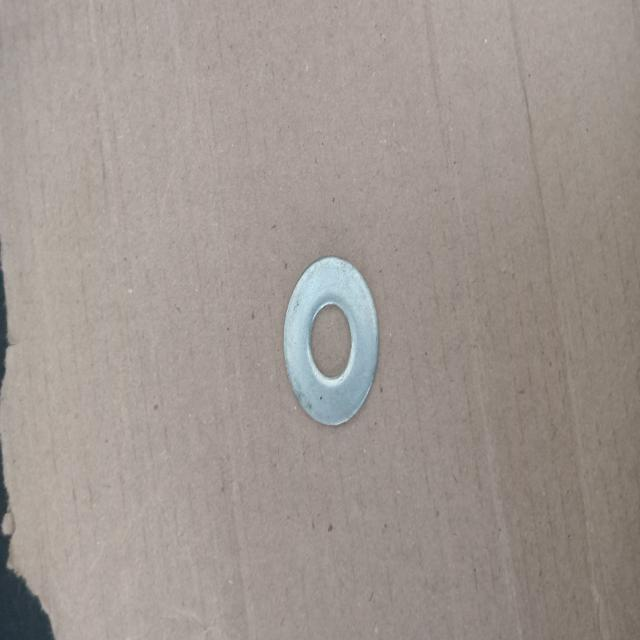washer: (282, 255, 380, 426)
